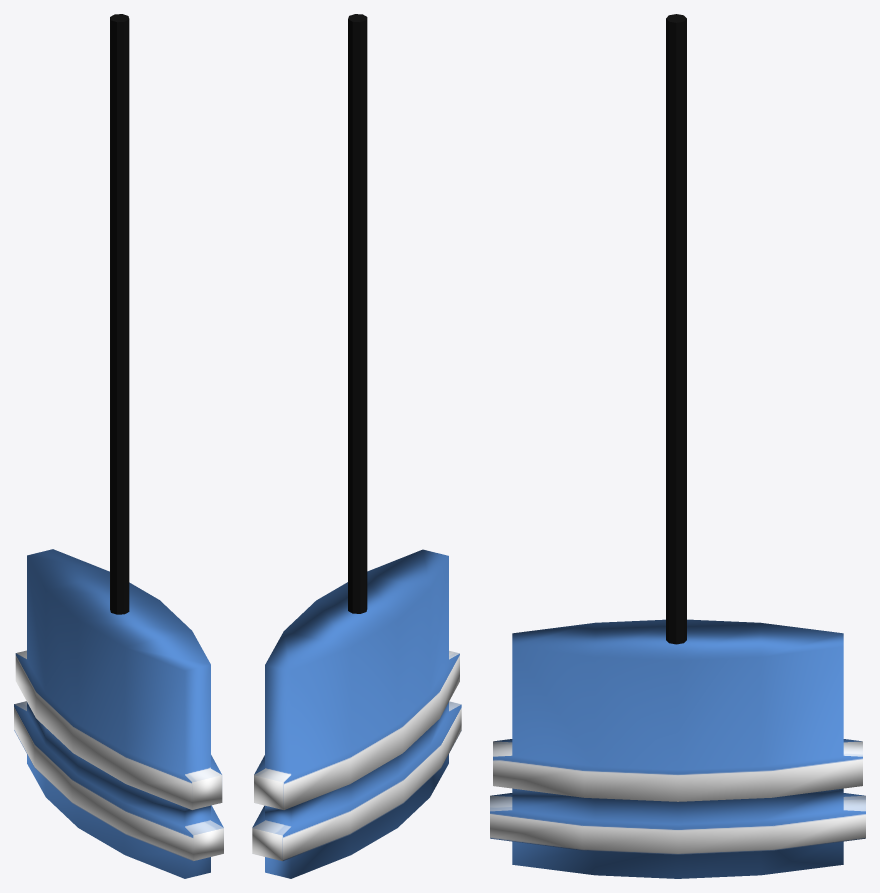
Rendered from aisle2 sign.obj.
3 renders of one model, left to right at view 1: azimuth 30°, elevation 25°; view 2: azimuth 150°, elevation 25°; view 3: azimuth 270°, elevation 25°, orthographic. The views are drawn at different scales.
Parts seen in each view (by area): view 1: Aisle_2, pole.002; view 2: Aisle_2, pole.002; view 3: Aisle_2, pole.002.
Part boxes in pixels (x1,y1,x2,y2): Aisle_2: (14, 549, 223, 878); pole.002: (110, 14, 129, 614); Aisle_2: (252, 549, 461, 878); pole.002: (348, 14, 367, 613); Aisle_2: (490, 619, 865, 878); pole.002: (666, 14, 686, 644).
Size of the model in its own units: 2.29 by 18.73 by 7.6.
Materials: 2 (1 with a texture image).
